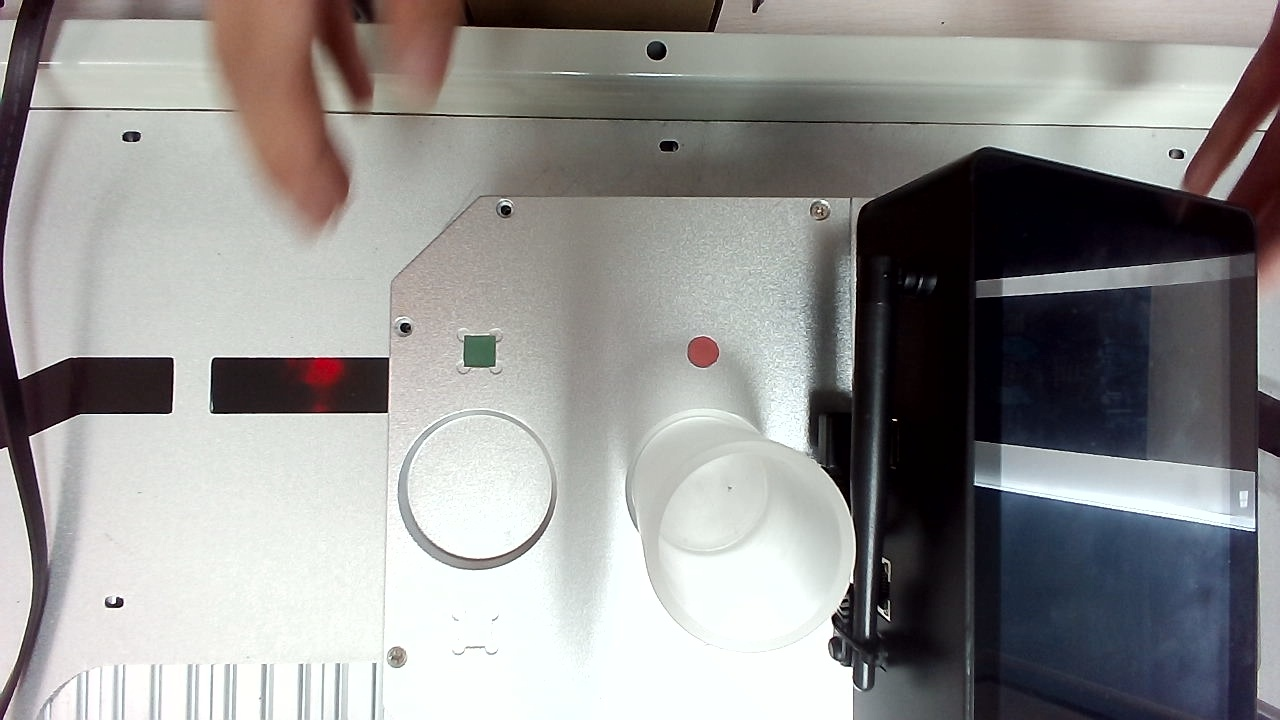bad: (272, 29, 321, 73), (649, 545, 695, 590), (295, 143, 342, 187), (614, 86, 655, 130), (685, 306, 727, 348), (706, 623, 747, 664), (845, 496, 886, 536), (710, 98, 748, 141), (506, 21, 543, 64), (790, 24, 824, 70), (396, 98, 432, 139), (538, 611, 574, 652), (828, 359, 867, 394), (723, 48, 758, 86), (726, 13, 760, 52), (267, 3, 304, 38), (614, 478, 651, 513), (345, 112, 381, 146), (693, 35, 724, 73), (804, 419, 838, 452)
defact: (680, 134, 717, 169)
pass: (645, 296, 686, 338), (296, 622, 336, 665), (530, 567, 569, 611), (643, 587, 686, 626), (847, 410, 882, 456), (465, 489, 502, 532), (700, 212, 741, 250), (446, 597, 481, 641), (769, 433, 804, 473), (667, 623, 703, 660), (482, 51, 517, 89), (686, 574, 715, 619), (517, 85, 550, 123), (656, 62, 684, 102)
toolong: (496, 210, 557, 272), (724, 131, 776, 183), (430, 87, 470, 145)
unpass: (267, 428, 313, 473), (657, 339, 702, 383), (481, 591, 522, 637), (608, 39, 646, 86), (359, 266, 398, 306), (325, 286, 363, 327), (457, 206, 493, 248), (381, 20, 419, 59), (797, 147, 835, 186), (757, 270, 796, 308), (308, 55, 345, 95), (433, 13, 470, 53), (799, 450, 836, 490), (781, 188, 818, 227), (418, 236, 454, 276), (645, 400, 681, 437), (452, 340, 488, 377), (541, 430, 577, 466), (481, 12, 514, 51), (607, 562, 641, 599), (603, 139, 635, 178), (682, 9, 714, 46), (758, 33, 790, 69), (525, 50, 559, 82)
